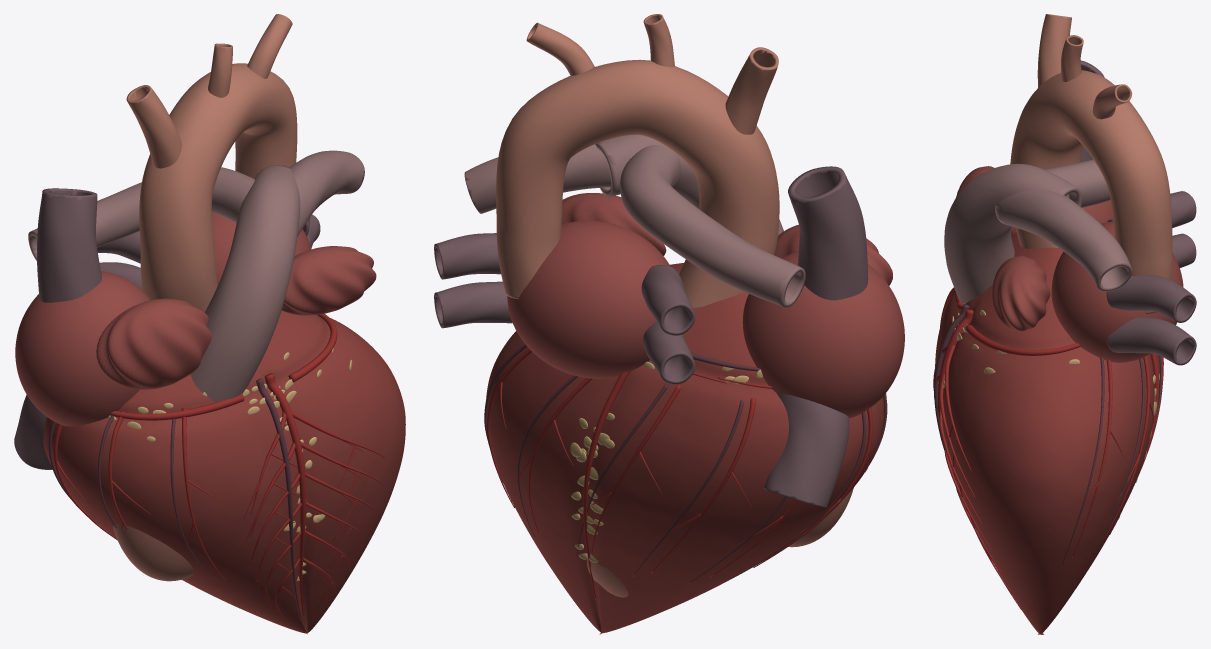
Rendered from heart-detail.glb.
3 views of the same model, side by side, from view 1: azimuth 30°, elevation 25°; view 2: azimuth 150°, elevation 25°; view 3: azimuth 270°, elevation 25° (orthographic). The views are drawn at different scales.
Visible parts, largest first — view 1: Ventricular_epicardium, Right_atrium, aorta, pulmonary_trunk, superior_vena_cava, LAD, Endocardium_right_atrium, Great_cardiac_vein, Epicardial_fat_0; view 2: Ventricular_epicardium, aorta, Right_atrium, superior_vena_cava, pulmonary_trunk, LAD, Great_cardiac_vein, Epicardial_fat_0, Endocardium_right_atrium; view 3: Ventricular_epicardium, aorta, pulmonary_trunk, Right_atrium, superior_vena_cava, LAD, Great_cardiac_vein, Epicardial_fat_0.
Boxes of the visible parts, x1,y1,x2,y2 form: Ventricular_epicardium: [43, 283, 405, 634]; Right_atrium: [15, 213, 376, 426]; aorta: [126, 14, 297, 312]; pulmonary_trunk: [28, 150, 364, 402]; superior_vena_cava: [14, 188, 320, 469]; LAD: [53, 314, 384, 623]; Endocardium_right_atrium: [113, 524, 193, 581]; Great_cardiac_vein: [48, 378, 302, 620]; Epicardial_fat_0: [108, 347, 352, 581]; Ventricular_epicardium: [486, 263, 884, 634]; aorta: [496, 14, 779, 307]; Right_atrium: [507, 193, 904, 418]; superior_vena_cava: [434, 166, 868, 507]; pulmonary_trunk: [464, 135, 805, 307]; LAD: [486, 349, 886, 599]; Great_cardiac_vein: [484, 344, 887, 583]; Epicardial_fat_0: [570, 361, 762, 562]; Endocardium_right_atrium: [586, 487, 853, 597]; Ventricular_epicardium: [935, 232, 1159, 634]; aorta: [1010, 14, 1172, 314]; pulmonary_trunk: [944, 159, 1132, 304]; Right_atrium: [956, 166, 1183, 362]; superior_vena_cava: [1080, 60, 1196, 365]; LAD: [933, 287, 1163, 609]; Great_cardiac_vein: [934, 303, 1162, 568]; Epicardial_fat_0: [942, 303, 1159, 519].
Bounding box in the file's own units: 1.39 × 2.13 × 0.8972.
